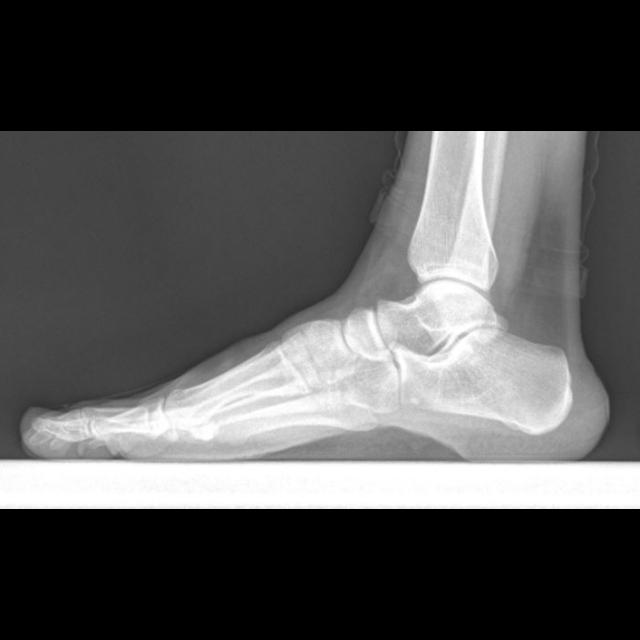a: (391, 330, 571, 433)
b: (344, 307, 388, 363)
c: (163, 340, 313, 430)
